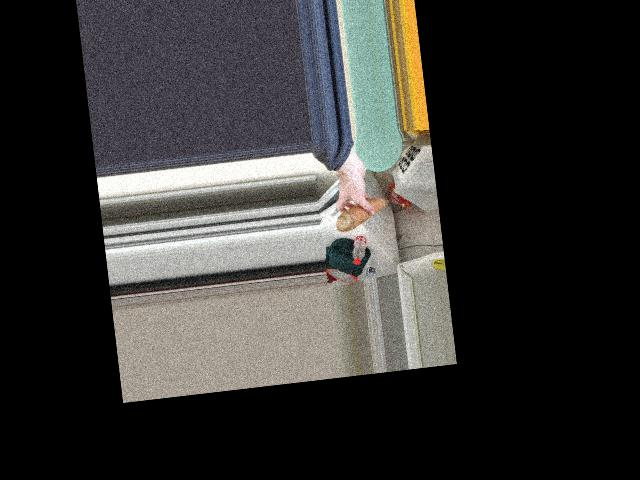sweet_potato: (336, 192, 387, 234)
